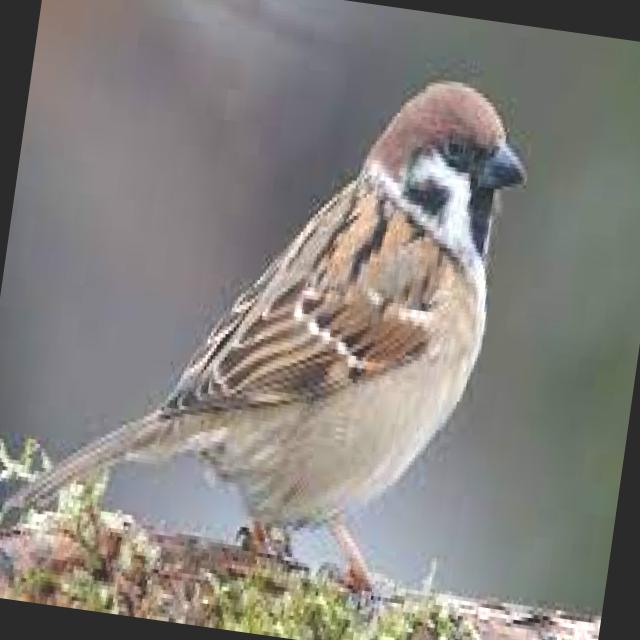bird: (0, 18, 547, 628)
